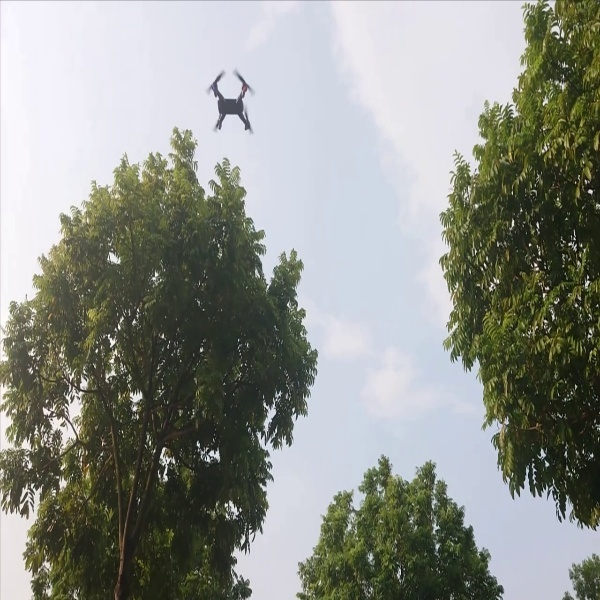drone: (200, 66, 265, 149)
